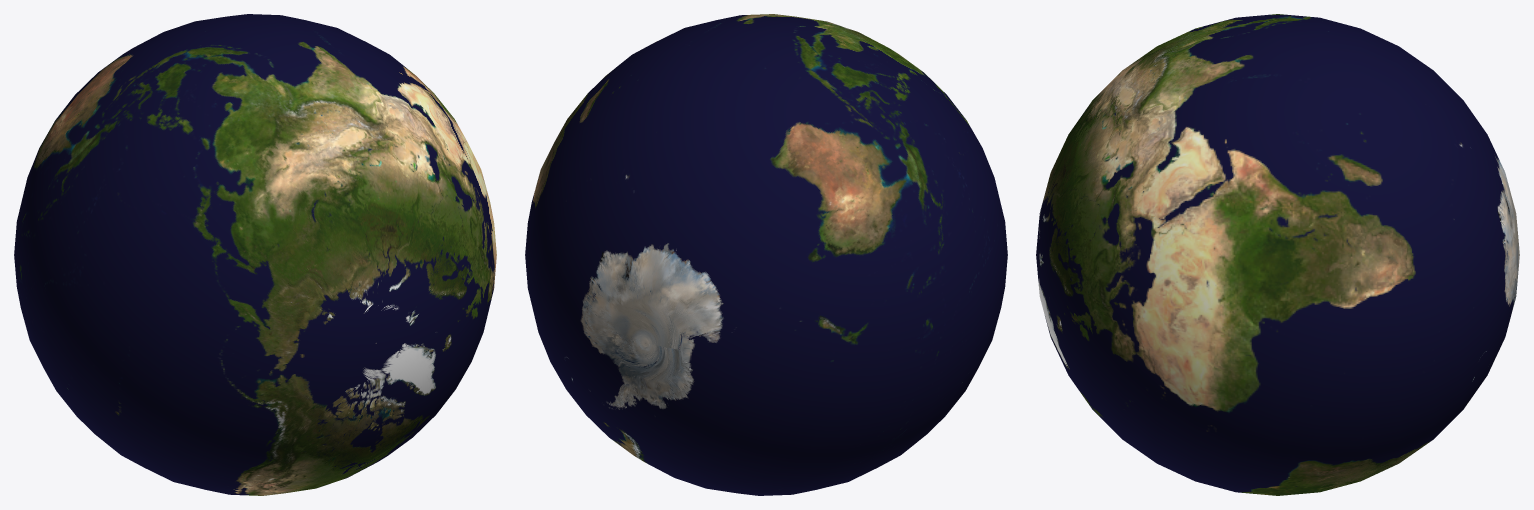
Rendered from HBTSSEarth.obj.
3 renders of one model, left to right at view 1: azimuth 30°, elevation 25°; view 2: azimuth 150°, elevation 25°; view 3: azimuth 270°, elevation 25°, orthographic.
Parts seen in each view (by area): view 1: sphere; view 2: sphere; view 3: sphere.
Part boxes in pixels (bbox=[...]): sphere: bbox=[14, 14, 496, 495]; sphere: bbox=[525, 14, 1007, 495]; sphere: bbox=[1036, 14, 1519, 495].
Size of the model in its own units: 1 by 1 by 1.
Materials: 1 (1 with a texture image).
